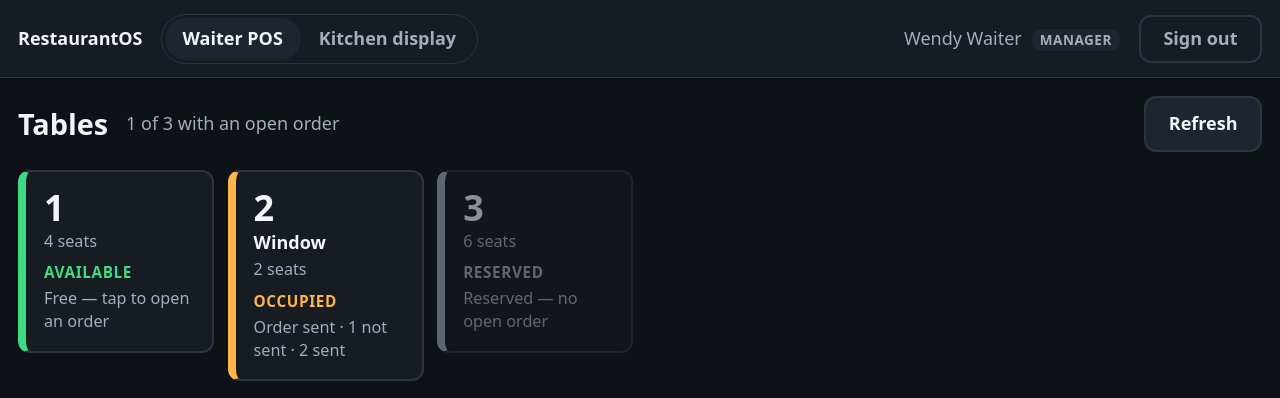
Test case: Screens by role › lets a manager switch between the POS and the kitchen display
The image size is (1280, 398).
Expected: the heading "Tables" is shown, [18,104,108,144]
Click the button "Kitchen display" at (387, 38), box [301,18,474,60]
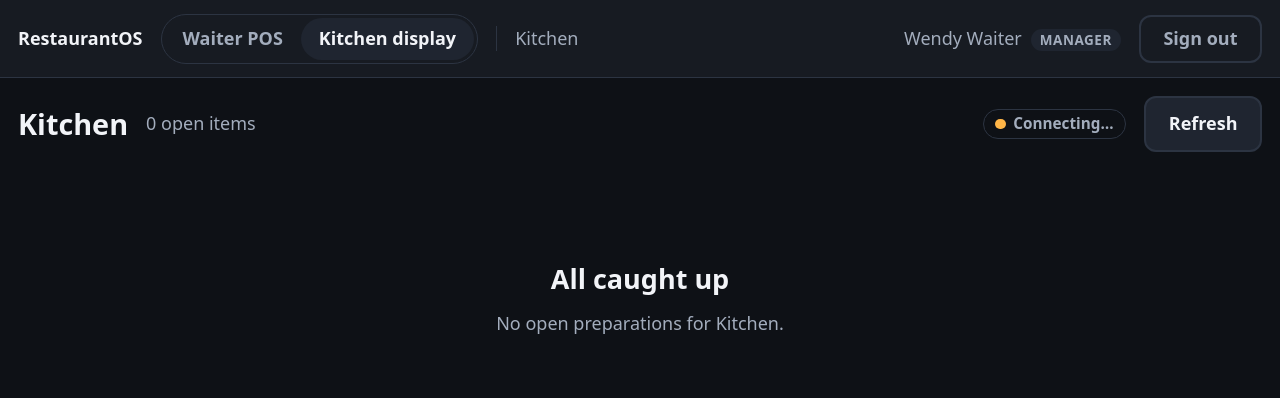
Now the heading "All caught up" is shown, box [551,260,729,298]
Click the button "Waiter POS" at (233, 38), box [164,18,301,60]
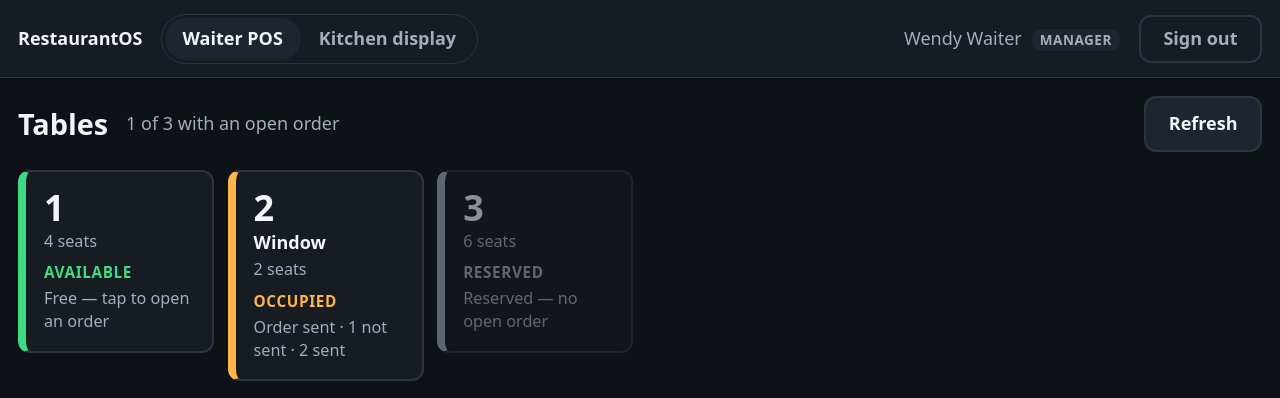
Now the heading "Tables" is shown, box [18,104,108,144]
